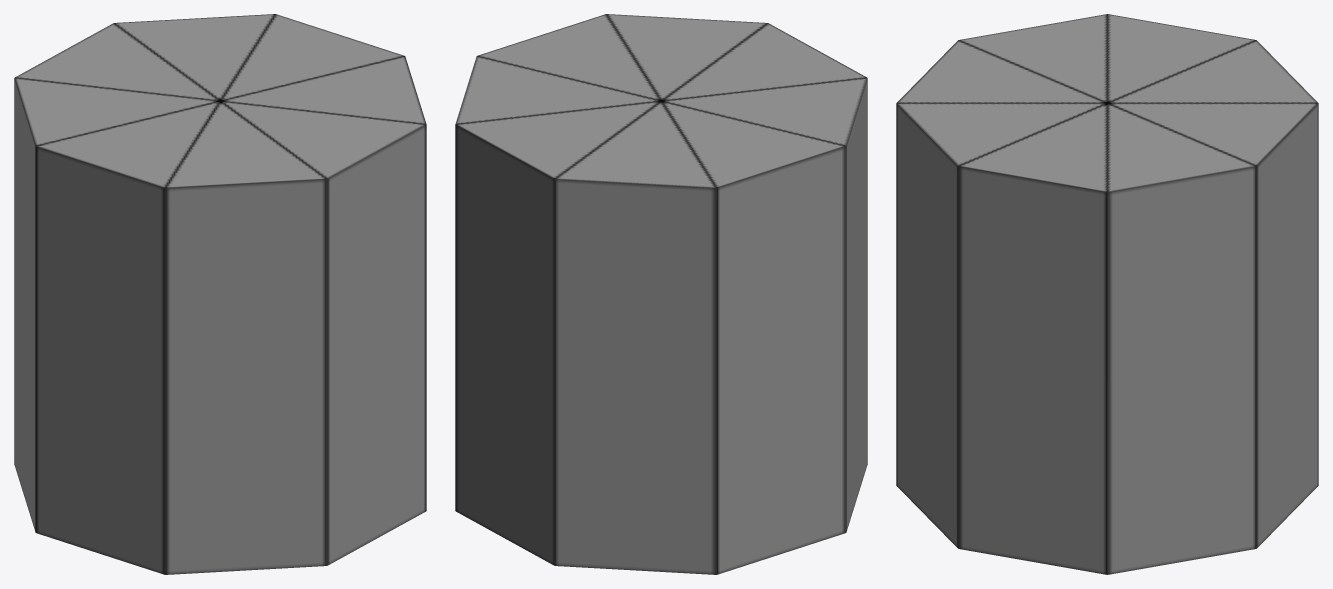
Rendered from MOdelosdeassets.fbx_CylinderBlenderPoliceAtack.fbx.
The picture shows the model from 3 angles, left to right: view 1: azimuth 30°, elevation 25°; view 2: azimuth 150°, elevation 25°; view 3: azimuth 270°, elevation 25°; orthographic projection.
Visible parts, largest first — view 1: CylinderBlenderPoliceAtack; view 2: CylinderBlenderPoliceAtack; view 3: CylinderBlenderPoliceAtack.
Part boxes in pixels (<box>): CylinderBlenderPoliceAtack: <box>14,14,426,574</box>; CylinderBlenderPoliceAtack: <box>455,14,867,574</box>; CylinderBlenderPoliceAtack: <box>896,14,1318,574</box>.
Bounding box in the file's own units: 200 × 200 × 200.
